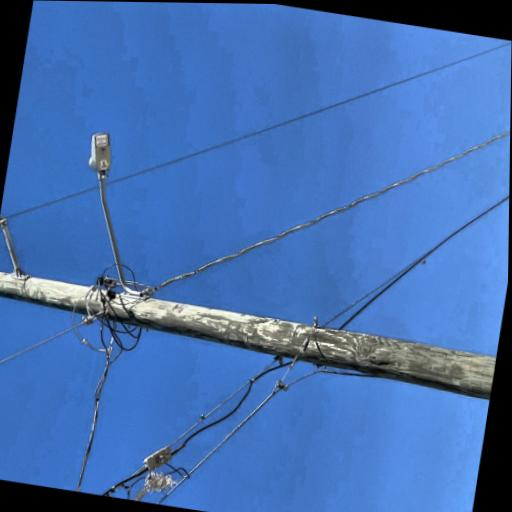insulator: (124, 102, 139, 119)
pole: (0, 77, 97, 485)
street light: (53, 188, 211, 303)
